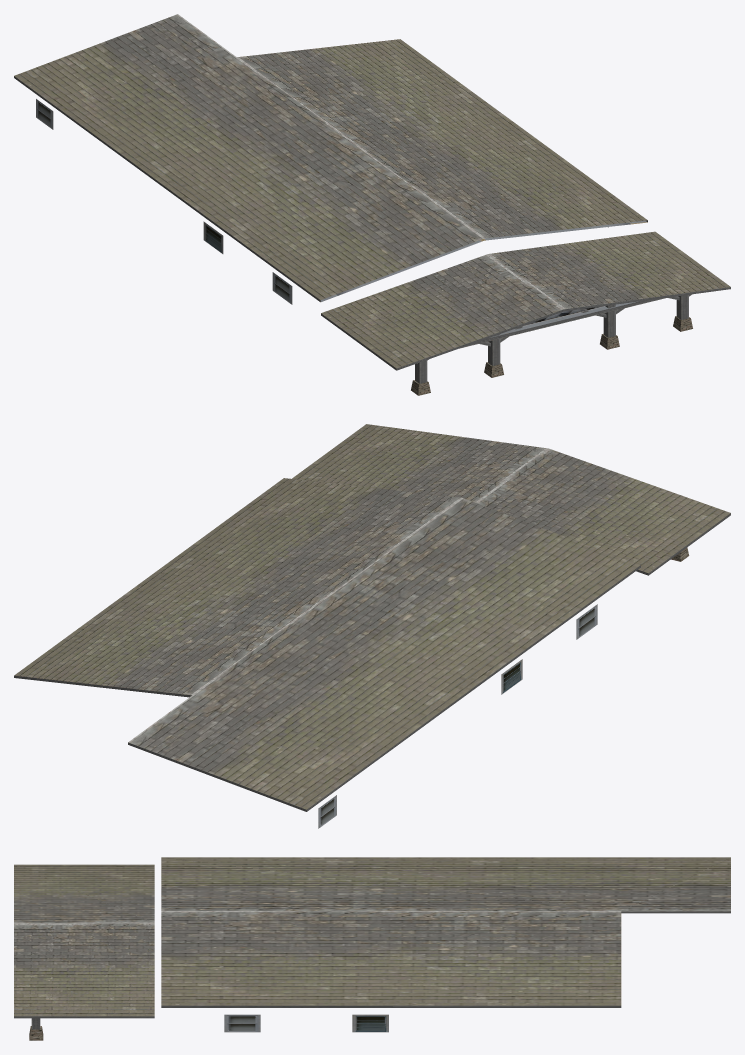
Rendered from rural_storesmall_2_material_#0_0_lev2.glb.
3 views of the same model, one above another, from view 1: azimuth 30°, elevation 25°; view 2: azimuth 150°, elevation 25°; view 3: azimuth 270°, elevation 25° (orthographic). The views are drawn at different scales.
Visible parts, largest first — view 1: rural_storesmall_2_material_#0_0_lev2; view 2: rural_storesmall_2_material_#0_0_lev2; view 3: rural_storesmall_2_material_#0_0_lev2.
Part boxes in pixels (bbox=[...]): rural_storesmall_2_material_#0_0_lev2: bbox=[14, 14, 730, 395]; rural_storesmall_2_material_#0_0_lev2: bbox=[14, 424, 730, 828]; rural_storesmall_2_material_#0_0_lev2: bbox=[14, 857, 730, 1040].
Bounding box in the file's own units: 7.52 × 1.55 × 15.04.
1 material, 1 textured.
